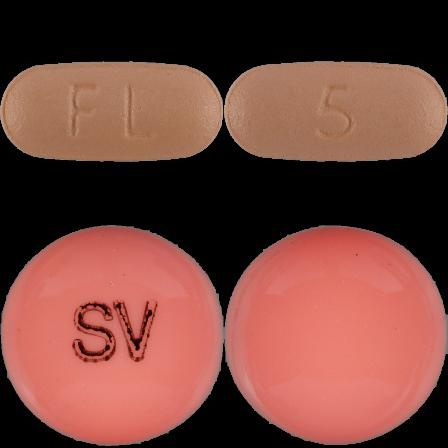0591-3870: (0, 0, 224, 224)
